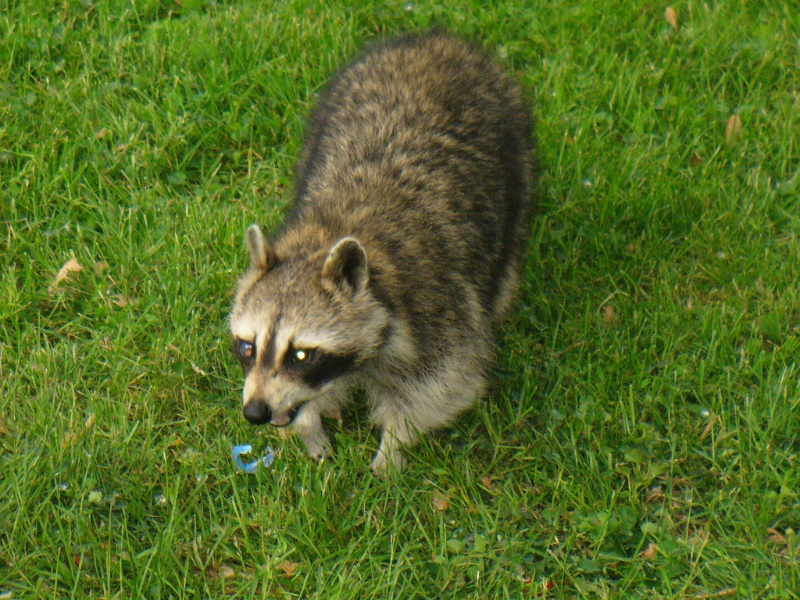raccoon: (226, 36, 543, 468)
